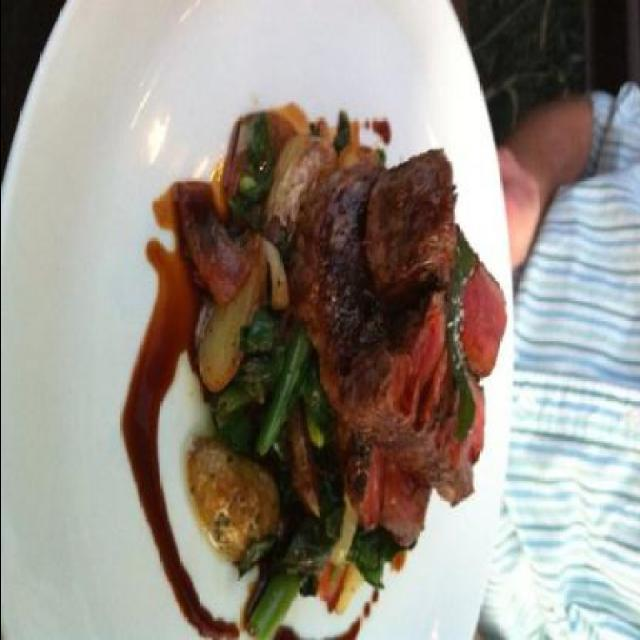Steak: (178, 104, 520, 570)
